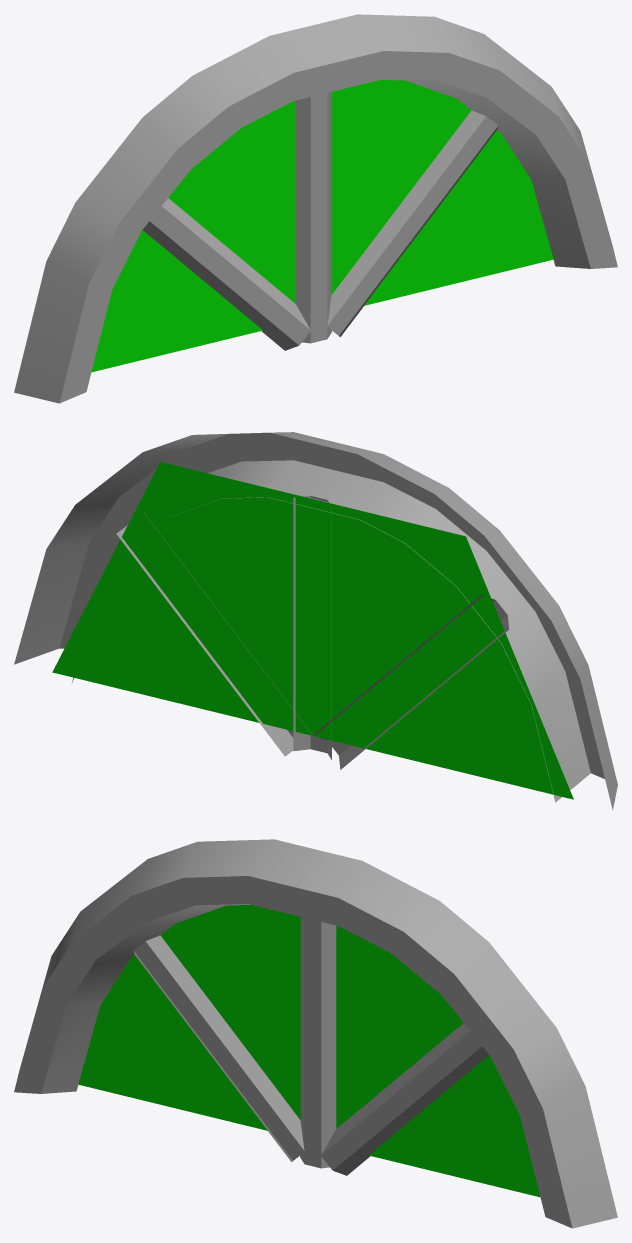
File: SM_Fenetre_3.fbx
3 views of the same model, one above another, from view 1: azimuth 30°, elevation 25°; view 2: azimuth 150°, elevation 25°; view 3: azimuth 330°, elevation 25° (orthographic).
Parts seen in each view (by area): view 1: pTorus1, polySurface55, pCube89, pCube88; view 2: polySurface55, pTorus1, pCube89, pCube88; view 3: pTorus1, polySurface55, pCube89, pCube88.
Boxes of the visible parts, x1,y1,x2,y2 form: pTorus1: (14,14,617,403); polySurface55: (91,80,553,372); pCube89: (143,110,498,350); pCube88: (295,92,331,343); polySurface55: (52,462,573,799); pTorus1: (14,432,617,810); pCube89: (116,513,509,769); pCube88: (293,495,331,759); pTorus1: (14,839,617,1228); polySurface55: (78,905,540,1197); pCube89: (133,935,488,1175); pCube88: (300,917,336,1168).
Size of the model in its own units: 276 by 141 by 20.77.
